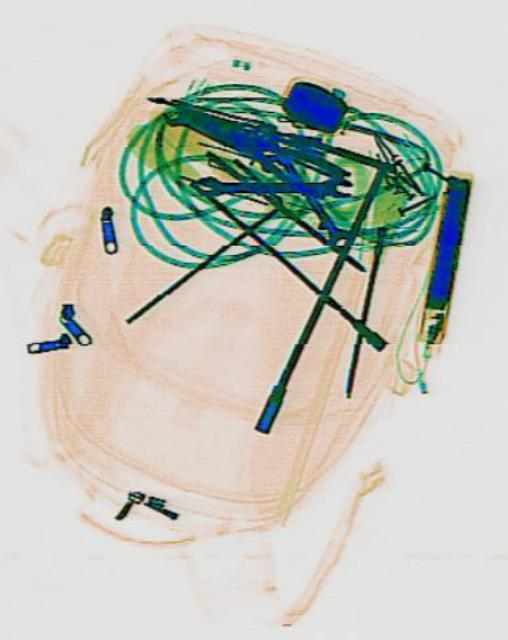Wrench: (251, 112, 353, 255), (189, 174, 351, 196)
